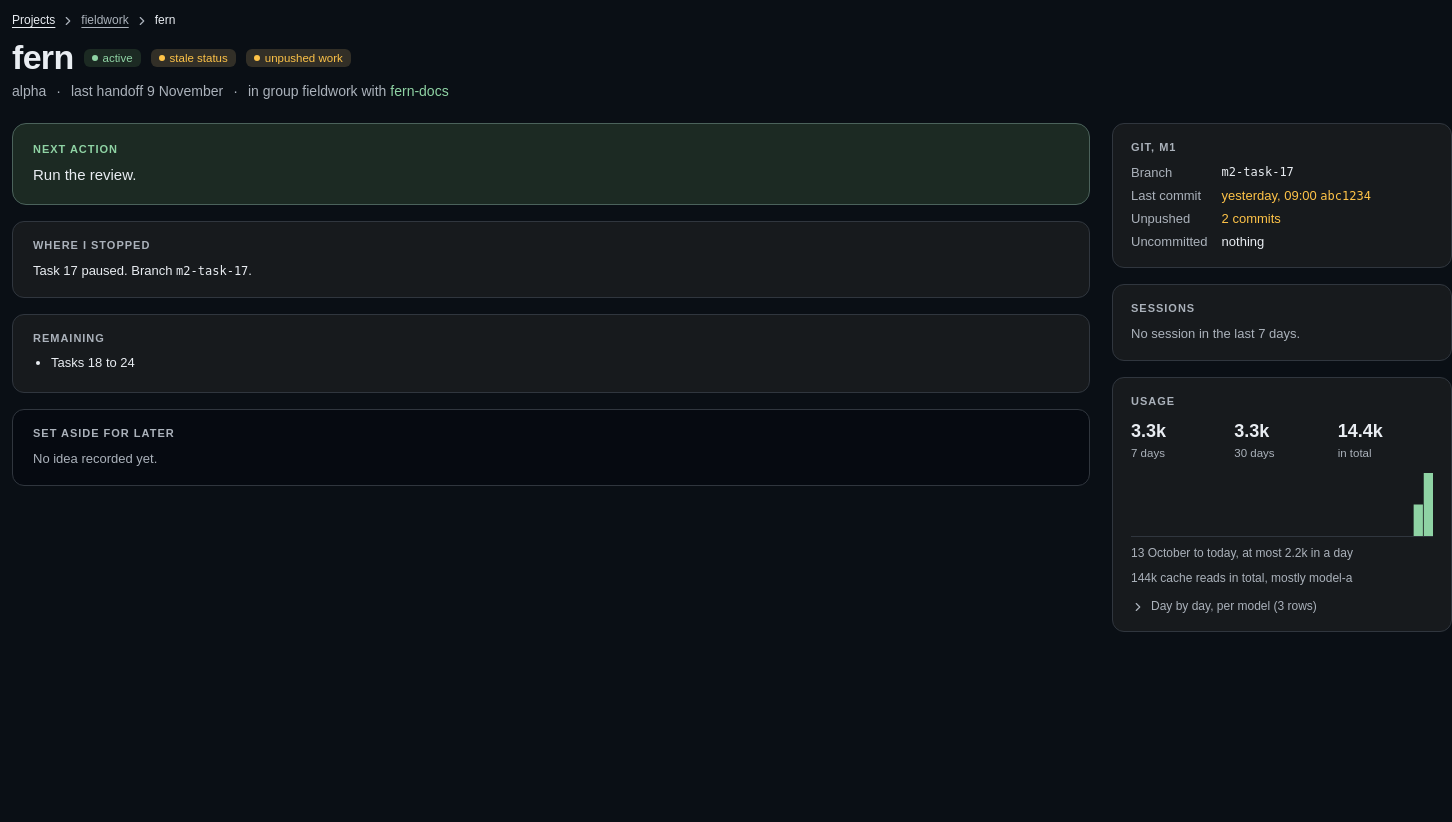
Test case: the usage card gives three figures, the bars, the dominant model and a folded table
Expected: the text "144k cache reads in total, mostly model-a" is shown, [1131,571,1352,585]
Click the button "Day by day, per model (3 rows)": [1224, 606] box [1131,598,1317,615]
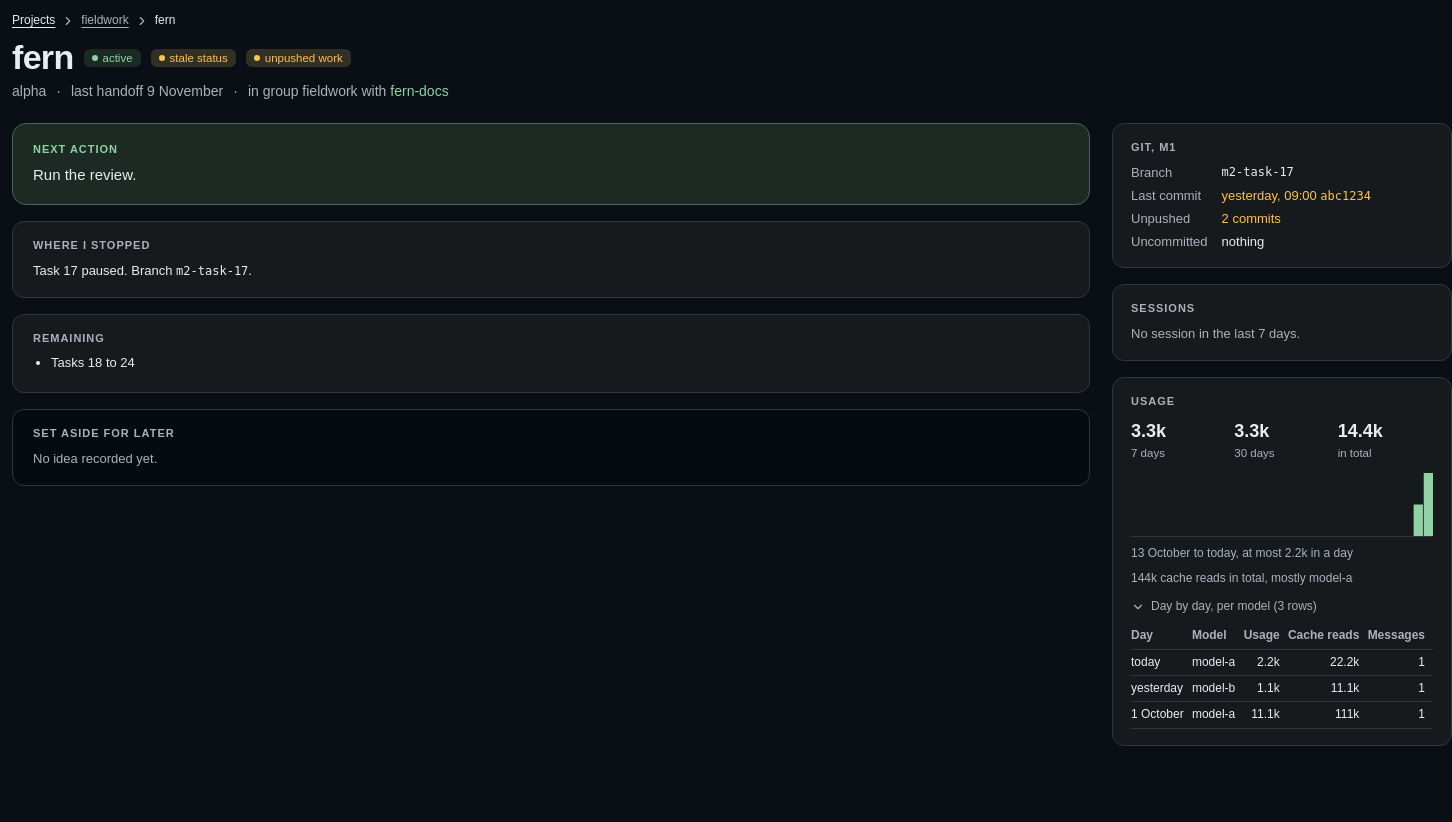
Expected: the button "Day by day, per model (3 rows)" is expanded, [1131,598,1317,615]
Expected: the number of rows is 4, [1131,623,1433,649]; [1131,649,1433,676]; [1131,676,1433,702]; [1131,702,1433,728]
Expected: the row "today model-a 2.2k 22.2k 1" is shown, [1131,649,1433,676]
